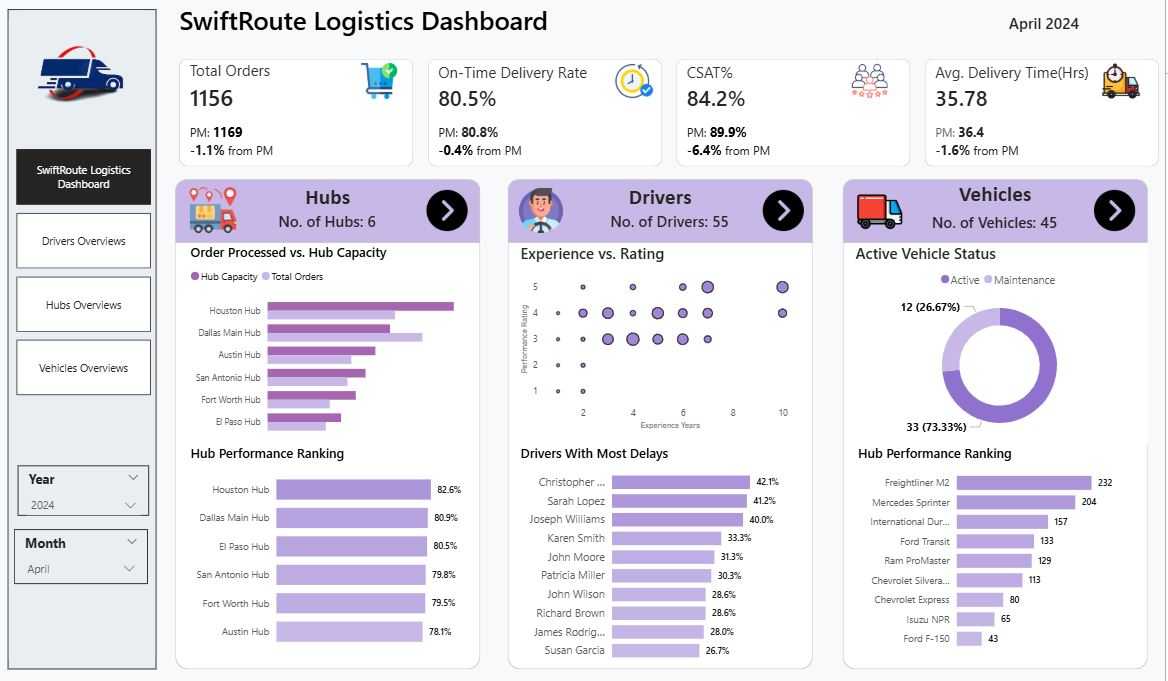

Layout of this report page (visuals, bound fields, positions):
{"tool":"powerbi","page":{"name":"SwiftRoute Logistics Dashboard","canvas":[1450,850],"ordinal":0},"visuals":[{"type":"shape","box":[10.9,14,185,820.8],"z":0},{"type":"textbox","box":[219.2,0,505.2,57.5],"z":1000},{"type":"cardVisual","fields":{"Data":["Selected Measures.Total Orders","Selected Measures.On-Time Delivery Rate","Selected Measures.CSAT%","Selected Measures.Avg. Delivery Time(Hrs)"]},"box":[219.2,65.3,1231.1,149.2],"z":2000},{"type":"slicer","fields":{"Values":["Date Table.Year"]},"box":[23.3,581.4,163.2,62.2],"z":3000},{"type":"slicer","fields":{"Values":["Date Table.Month"]},"box":[18.7,660.6,166.3,68.4],"z":4000},{"type":"shape","box":[219.2,225.4,379.3,609.4],"z":5000},{"type":"shape","box":[219.2,225.4,379.3,79.3],"z":6000},{"type":"textbox","box":[349.8,225.4,118.1,52.9],"z":7000},{"type":"cardVisual","fields":{"Data":["Selected Measures.No. Of Hubs"]},"box":[314,248.7,188.1,56],"z":8000},{"type":"clusteredBarChart","title":"Order Processed vs. Hub Capacity","fields":{"Category":["Hubs.HubName"],"Y":["Sum(Hubs.Hub Capacity)","Selected Measures.Total Orders"]},"box":[233.2,304.7,349.8,250.3],"z":9000},{"type":"barChart","title":"Hub Performance Ranking","fields":{"Category":["Hubs.HubName"],"Y":["Selected Measures.On-Time Delivery Rate"]},"box":[233.2,554.9,349.8,265.8],"z":10000},{"type":"shape","box":[632.7,225.4,379.3,609.4],"z":11000},{"type":"shape","box":[632.7,225.4,379.3,79.3],"z":12000},{"type":"shape","box":[1049.3,225.4,379.3,609.4],"z":13000},{"type":"shape","box":[1049.3,225.4,379.3,79.3],"z":14000},{"type":"cardVisual","fields":{"Data":["Selected Measures.No. Of Driver"]},"box":[739.9,248.7,188.1,56],"z":15000},{"type":"cardVisual","fields":{"Data":["Selected Measures.No. Of Vehicles"]},"box":[1127,250.3,222.3,54.4],"z":16000},{"type":"textbox","box":[763.2,225.4,118.1,52.9],"z":17000},{"type":"textbox","box":[1148.7,222.3,180.3,52.9],"z":18000},{"type":"scatterChart","title":"Experience vs. Rating","fields":{"X":["Drivers.Experience Years"],"Y":["Drivers.Performance Rating"],"Size":["Sum(Drivers.Experience Years)1"]},"box":[643.5,304.7,357.5,236.3],"z":19000},{"type":"barChart","title":"Drivers With Most Delays","fields":{"Category":["Drivers.DriverName"],"Y":["Selected Measures.Delayed Delivery Rate"]},"box":[643.5,554.9,368.4,279.8],"z":20000},{"type":"donutChart","title":"Active Vehicle  Status","fields":{"Category":["Vehicles.Vehicle Status"],"Y":["CountNonNull(Vehicles.Vehicle ID)"]},"box":[1060.1,304.7,368.4,250.3],"z":21000},{"type":"barChart","title":"Hub Performance Ranking","fields":{"Y":["Selected Measures.Total Orders"],"Category":["Vehicles.Vehicle Model"]},"box":[1063.3,554.9,349.8,265.8],"z":22000},{"type":"image","box":[20.2,29.5,164.8,125.9],"z":23000},{"type":"cardVisual","fields":{"Data":["Selected Measures.Year Month Title"]},"box":[1170.5,3.1,258,54.4],"z":24000},{"type":"image","box":[949.8,237.8,51.3,52.9],"z":25000},{"type":"image","box":[531.6,237.8,51.3,52.9],"z":26000},{"type":"image","box":[1361.7,237.8,51.3,52.9],"z":27000},{"type":"pageNavigator","box":[21.8,188.1,167.9,307.8],"z":28000},{"type":"image","box":[233.2,233.2,65.3,60.6],"z":29000},{"type":"image","box":[643.5,236.3,60.6,56],"z":30000},{"type":"image","box":[1063.3,237.8,63.7,56],"z":31000},{"type":"image","box":[438.4,80.8,68.4,45.1],"z":32000},{"type":"image","box":[757,79.3,65.3,48.2],"z":33000},{"type":"image","box":[1049.3,80.8,66.8,45.1],"z":34000},{"type":"image","box":[1361.7,79.3,66.8,48.2],"z":35000}]}

Visuals, with their boxes on the page's 1450x850 design canvas (x1, y1, x2, y2). These are canvas units, not pixel positions in the 1168x681 screenshot, which may show the page scaled, cropped or inside an application window:
shape: (left=11, top=14, right=196, bottom=835)
textbox: (left=219, top=0, right=724, bottom=58)
cardVisual - Selected Measures.Total Orders x Selected Measures.On-Time Delivery Rate: (left=219, top=65, right=1450, bottom=214)
slicer - Date Table.Year: (left=23, top=581, right=186, bottom=644)
slicer - Date Table.Month: (left=19, top=661, right=185, bottom=729)
shape: (left=219, top=225, right=598, bottom=835)
shape: (left=219, top=225, right=598, bottom=305)
textbox: (left=350, top=225, right=468, bottom=278)
cardVisual - Selected Measures.No. Of Hubs: (left=314, top=249, right=502, bottom=305)
"Order Processed vs. Hub Capacity" clusteredBarChart: (left=233, top=305, right=583, bottom=555)
"Hub Performance Ranking" barChart: (left=233, top=555, right=583, bottom=821)
shape: (left=633, top=225, right=1012, bottom=835)
shape: (left=633, top=225, right=1012, bottom=305)
shape: (left=1049, top=225, right=1429, bottom=835)
shape: (left=1049, top=225, right=1429, bottom=305)
cardVisual - Selected Measures.No. Of Driver: (left=740, top=249, right=928, bottom=305)
cardVisual - Selected Measures.No. Of Vehicles: (left=1127, top=250, right=1349, bottom=305)
textbox: (left=763, top=225, right=881, bottom=278)
textbox: (left=1149, top=222, right=1329, bottom=275)
"Experience vs. Rating" scatterChart: (left=644, top=305, right=1001, bottom=541)
"Drivers With Most Delays" barChart: (left=644, top=555, right=1012, bottom=835)
"Active Vehicle  Status" donutChart: (left=1060, top=305, right=1428, bottom=555)
"Hub Performance Ranking" barChart: (left=1063, top=555, right=1413, bottom=821)
image: (left=20, top=30, right=185, bottom=155)
cardVisual - Selected Measures.Year Month Title: (left=1170, top=3, right=1428, bottom=58)
image: (left=950, top=238, right=1001, bottom=291)
image: (left=532, top=238, right=583, bottom=291)
image: (left=1362, top=238, right=1413, bottom=291)
pageNavigator: (left=22, top=188, right=190, bottom=496)
image: (left=233, top=233, right=298, bottom=294)
image: (left=644, top=236, right=704, bottom=292)
image: (left=1063, top=238, right=1127, bottom=294)
image: (left=438, top=81, right=507, bottom=126)
image: (left=757, top=79, right=822, bottom=128)
image: (left=1049, top=81, right=1116, bottom=126)
image: (left=1362, top=79, right=1428, bottom=128)
